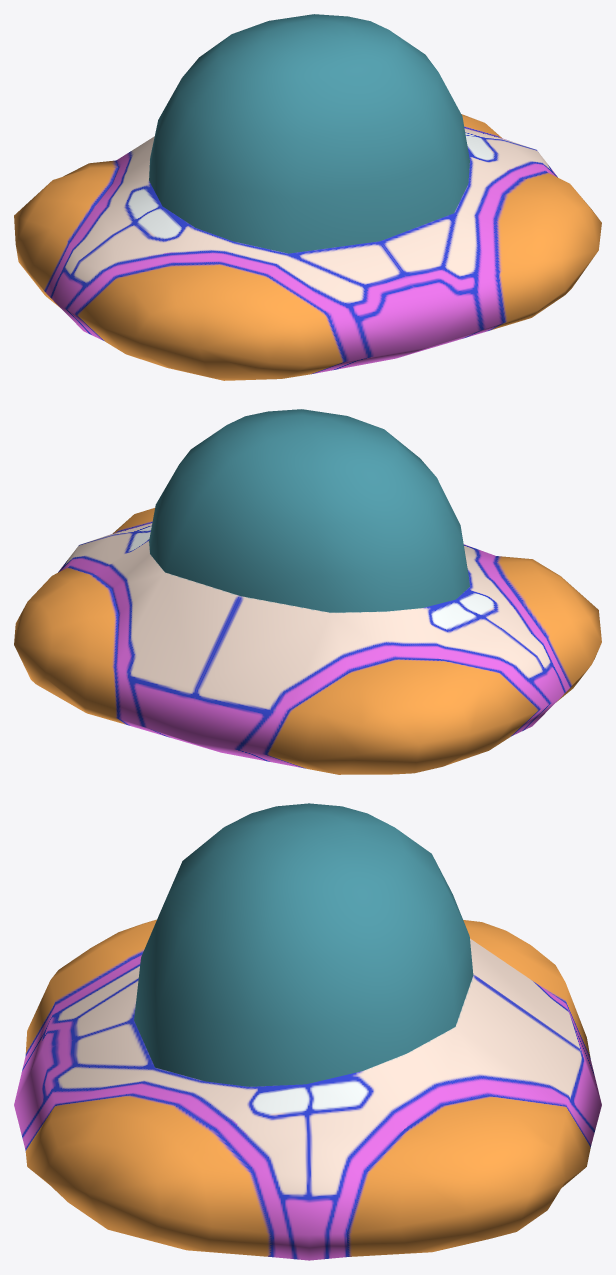
Rendered from mesh_UFO_01.fbx.
The picture shows the model from 3 angles, top to bottom: view 1: azimuth 30°, elevation 25°; view 2: azimuth 150°, elevation 25°; view 3: azimuth 270°, elevation 25°; orthographic projection. The views are drawn at different scales.
Parts seen in each view (by area): view 1: UFO, UFO_cockpit; view 2: UFO, UFO_cockpit; view 3: UFO, UFO_cockpit.
Part boxes in pixels (<box>): UFO: <box>14,114,601,380</box>; UFO_cockpit: <box>149,14,469,253</box>; UFO: <box>14,508,601,774</box>; UFO_cockpit: <box>149,409,469,612</box>; UFO: <box>14,919,601,1260</box>; UFO_cockpit: <box>134,803,473,1086</box>.
Bounding box in the file's own units: 340 × 174 × 283.
